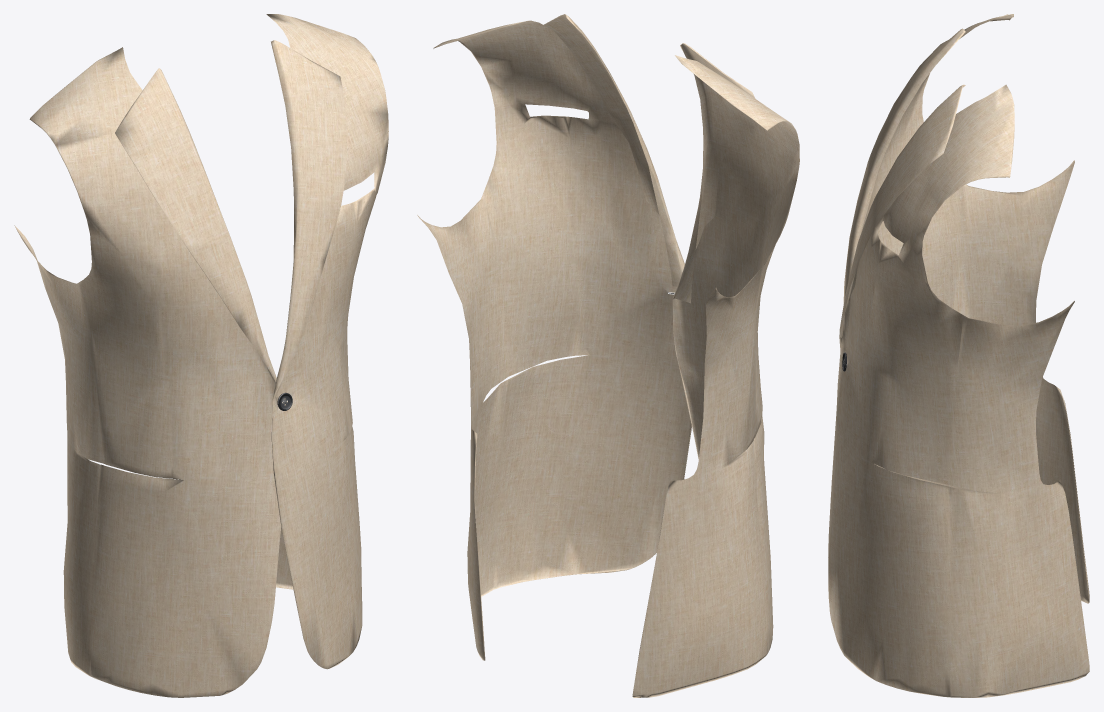
File: noch_singlebtn_new.glb
3 views of the same model, side by side, from view 1: azimuth 30°, elevation 25°; view 2: azimuth 150°, elevation 25°; view 3: azimuth 270°, elevation 25° (orthographic). The views are drawn at different scales.
Parts seen in each view (by area): view 1: notch_single_button1; view 2: notch_single_button1; view 3: notch_single_button1.
Boxes of the visible parts, <box> form: notch_single_button1: <box>14,14,388,697</box>; notch_single_button1: <box>417,14,799,697</box>; notch_single_button1: <box>828,14,1089,697</box>.
Bounding box in the file's own units: 0.0585 × 0.1024 × 0.0411.
Materials: 4 (3 with a texture image).
